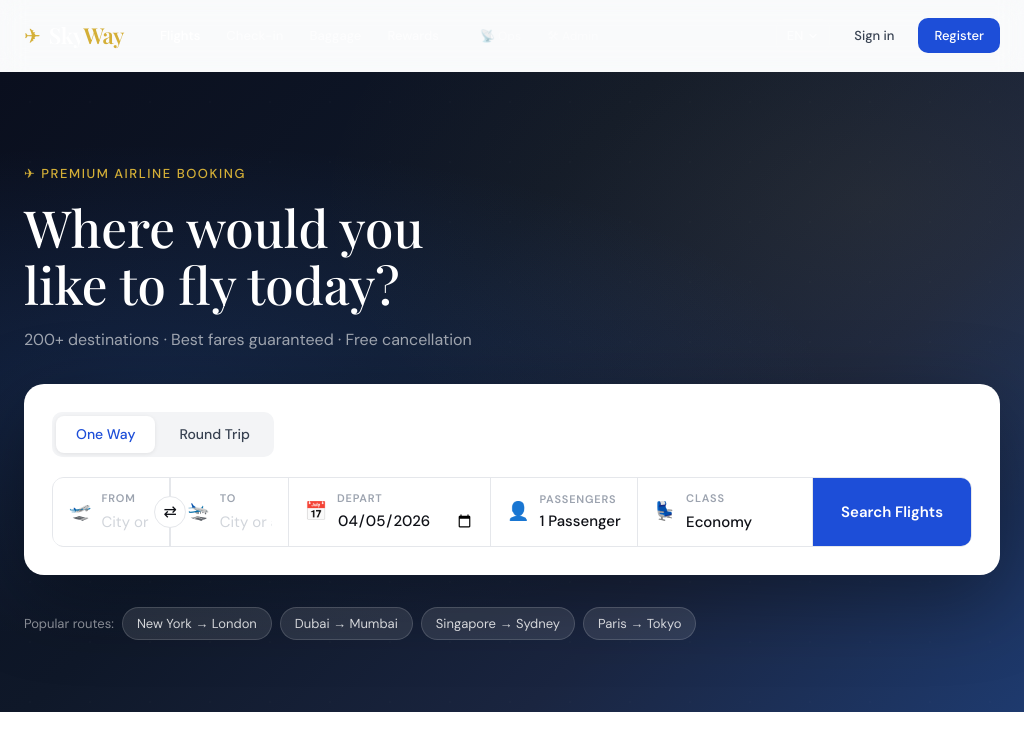
Scenario: SkyWay Airlines — Full Booking Flow › Home / Search Page › shows validation error if form submitted empty
Click the button with class "search-btn" at (892, 512), box x1=813 y1=478 x2=971 y2=546
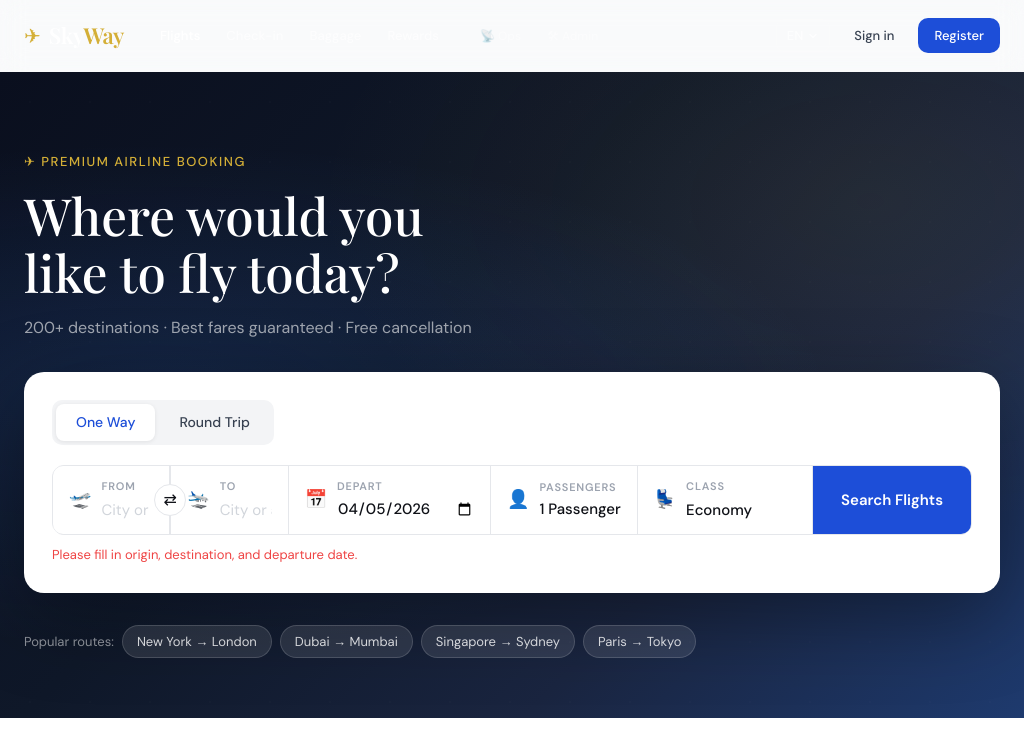
Expected: the text "Please fill in origin, destination, and departure date." is shown, x1=52 y1=546 x2=357 y2=563
